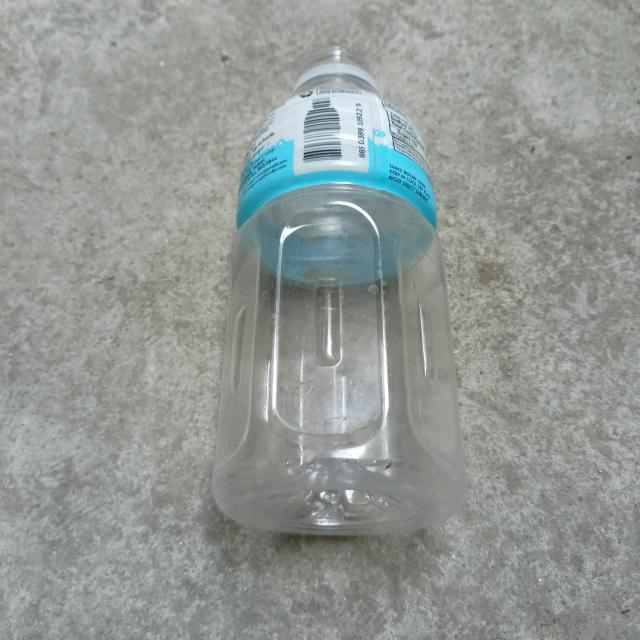Bottle: (209, 44, 468, 535)
